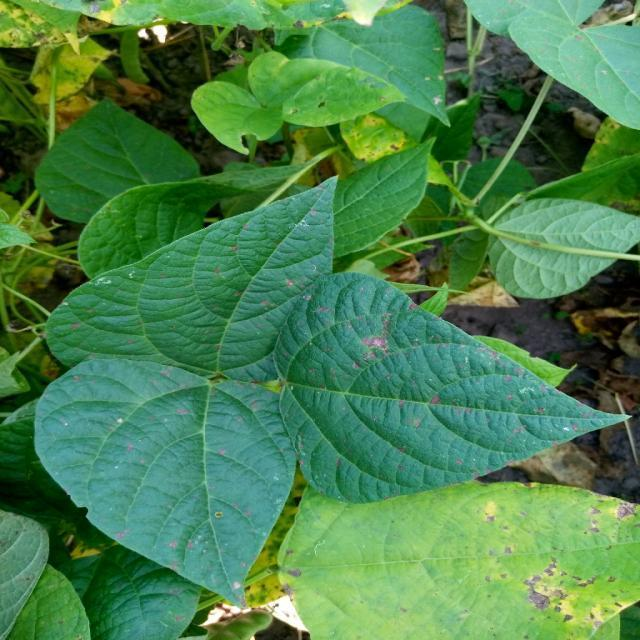hawar: (339, 313, 426, 374)
mozaik: (49, 359, 261, 506)
